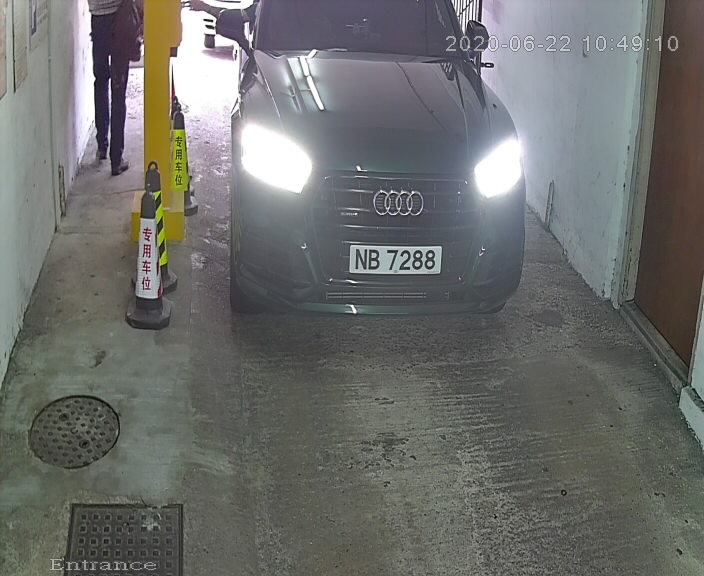privatecar: (189, 1, 556, 358)
